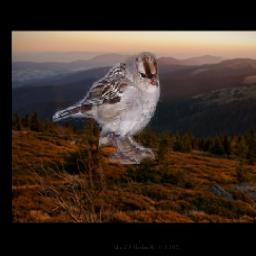Sparrow: (53, 52, 164, 164)
